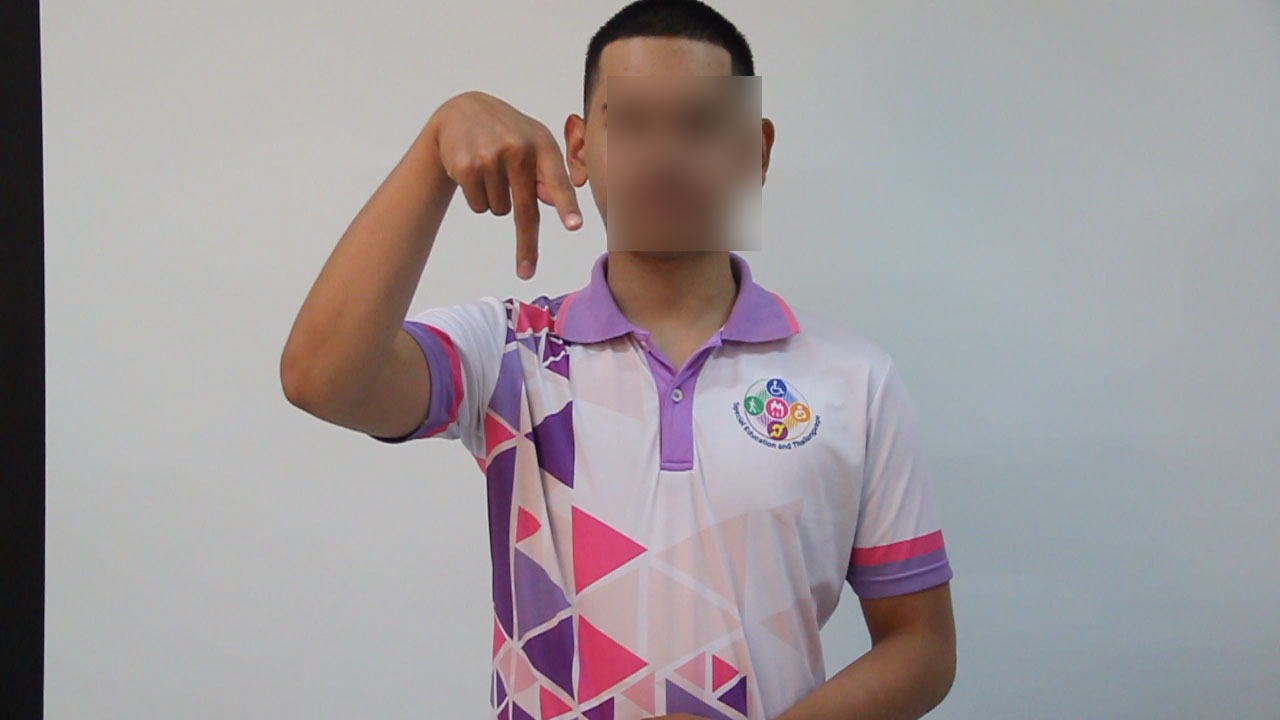por: (428, 69, 590, 289)
